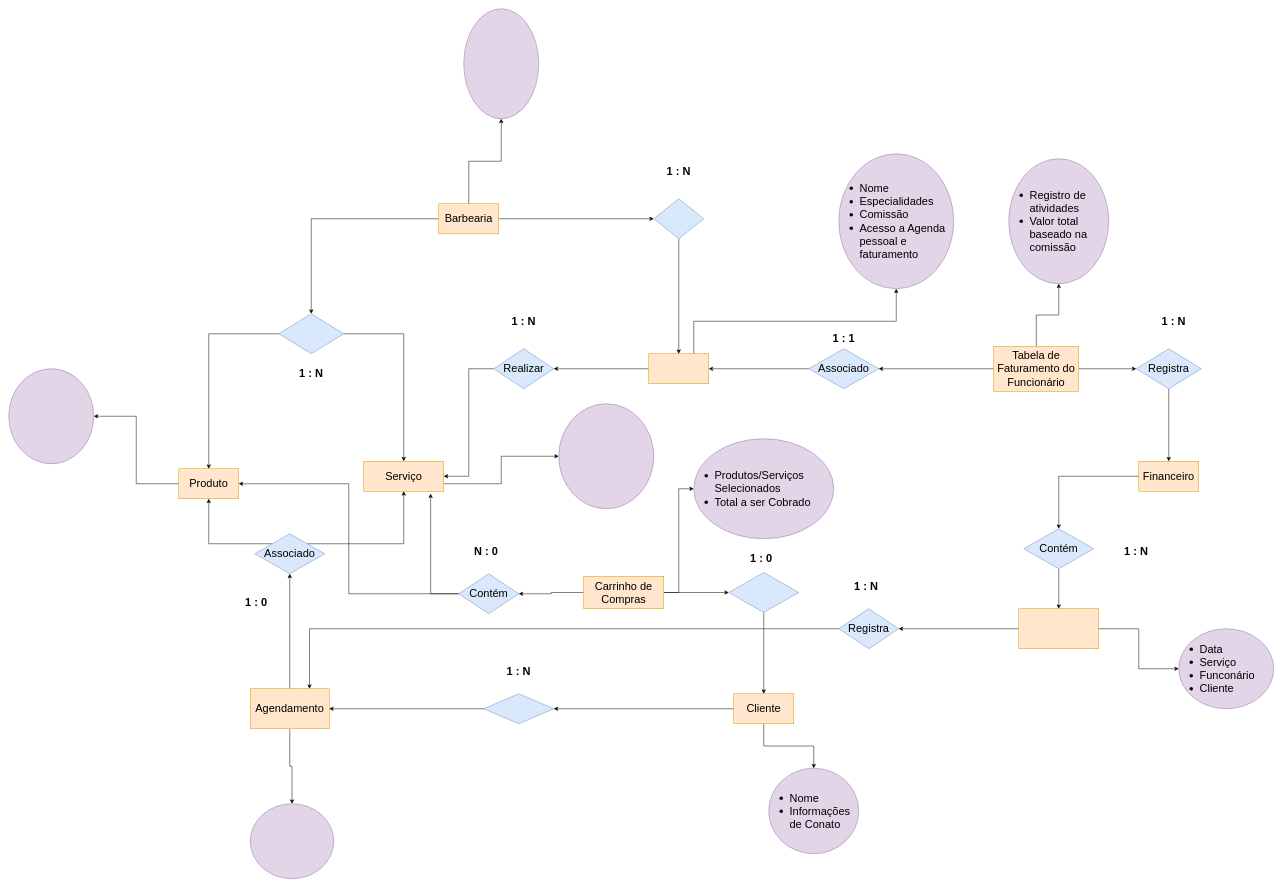
Some shapes in this 1283 by 888 pixel diagram are drawn without their labels. Each missing label, with the centre of its shape:
"Contratar" belongs at point (678, 218).
"Data/Hora Funcionario serviço" belongs at point (292, 841).
"Fazer" belongs at point (518, 708).
"Funcionario" belongs at point (678, 368).
"Historico de Atendimento" belongs at point (1058, 628).
"nome Descrição Preço" belongs at point (51, 416).
"nome Descrição Preço Duração" belongs at point (606, 456).
"Nome Endereço Contato" belongs at point (501, 63).
"Oferecer" belongs at point (311, 333).
"Pertence" belongs at point (763, 592).
